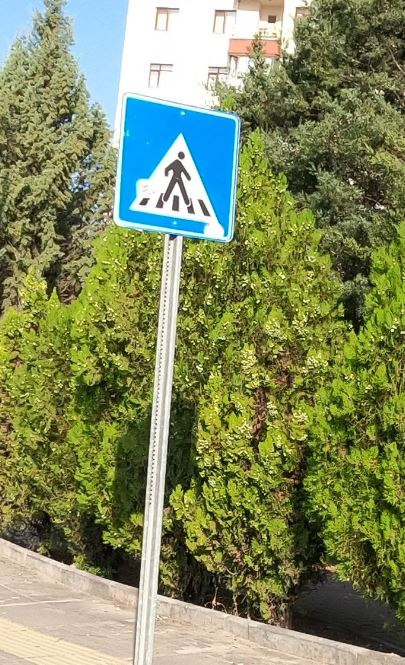Yaya Gecidi: (126, 94, 241, 237)
